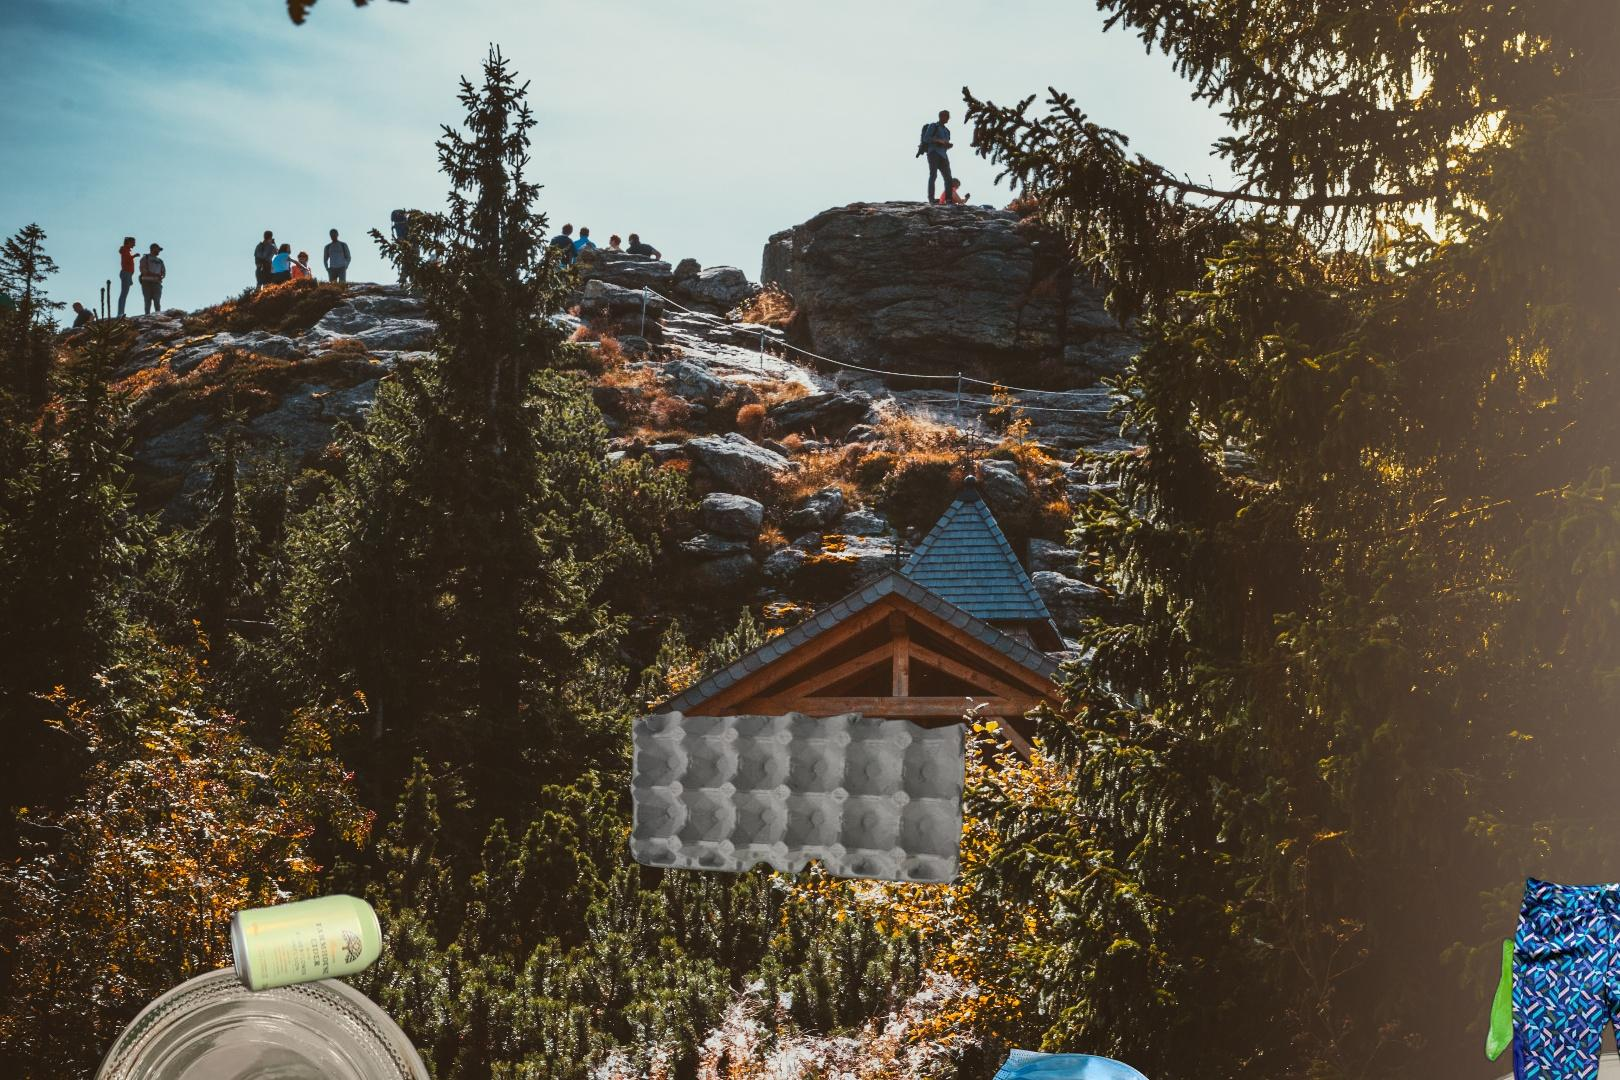clothes: (1499, 869, 1620, 1080)
glass: (80, 961, 450, 1080), (1444, 1047, 1620, 1080)
metal-cans: (225, 888, 387, 997)
paper: (624, 708, 970, 886)
plastic-bag: (1483, 787, 1620, 1072)
trash: (940, 1041, 1240, 1080)
